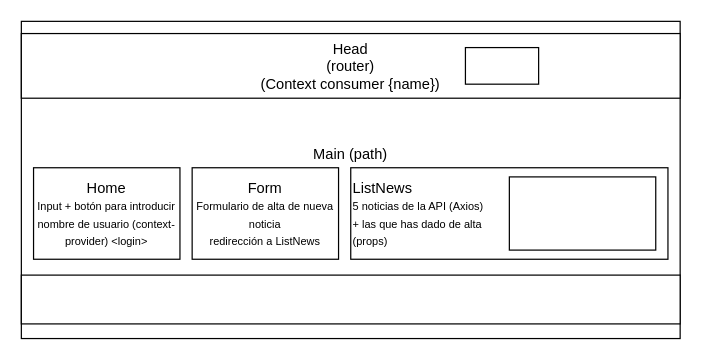
The diagram is 702 pixels wide and 360 high, and some of its shapes have lost their labels. The centre of each missing label's shape, as x and y in pixels:
Card Cada noticia + borrar: [582,213]
Footer: [350,299]
Nav (router): [501,65]
